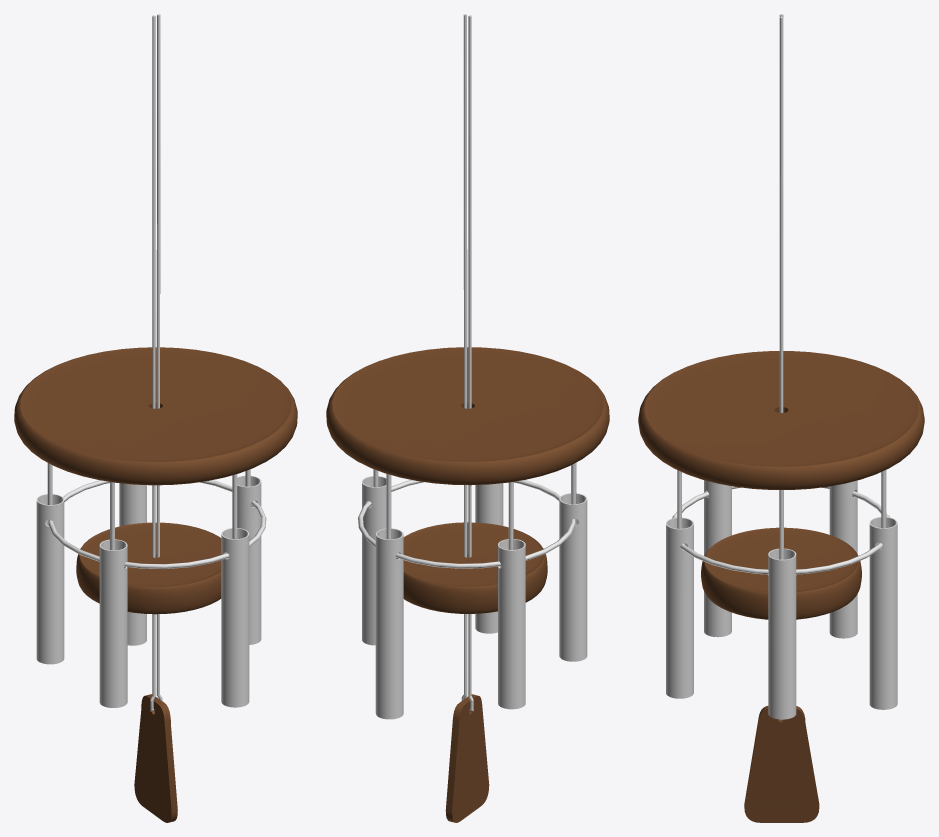
File: WindChime001.fbx
The picture shows the model from 3 angles, left to right: view 1: azimuth 30°, elevation 25°; view 2: azimuth 150°, elevation 25°; view 3: azimuth 270°, elevation 25°; orthographic projection.
Visible parts, largest first — view 1: Big ring, Big ring001, Plane005, Plane004, Plane003, Line001, Cylinder001, Plane001, Plane002, Circle001; view 2: Big ring, Big ring001, Plane002, Plane003, Plane004, Line001, Cylinder001, Plane001, Circle001, Plane005; view 3: Big ring, Big ring001, Cylinder001, Plane002, Plane005, Plane001, Plane003, Plane004, Line001, Circle001.
Part boxes in pixels (<box>): Big ring: <box>14,347,297,485</box>; Big ring001: <box>76,522,221,614</box>; Plane005: <box>221,528,249,707</box>; Plane004: <box>99,539,127,707</box>; Plane003: <box>36,494,64,664</box>; Line001: <box>150,14,162,711</box>; Cylinder001: <box>134,694,177,822</box>; Plane001: <box>237,475,261,644</box>; Plane002: <box>119,483,146,645</box>; Circle001: <box>48,480,266,568</box>; Big ring: <box>326,347,609,485</box>; Big ring001: <box>403,522,547,613</box>; Plane002: <box>375,528,403,719</box>; Plane003: <box>498,539,525,709</box>; Plane004: <box>559,493,587,661</box>; Line001: <box>461,14,473,711</box>; Cylinder001: <box>445,694,489,822</box>; Plane001: <box>362,476,386,645</box>; Circle001: <box>358,480,575,568</box>; Plane005: <box>475,483,503,633</box>; Big ring: <box>638,351,924,489</box>; Big ring001: <box>701,527,861,619</box>; Cylinder001: <box>744,706,819,822</box>; Plane002: <box>869,517,897,709</box>; Plane005: <box>666,517,693,698</box>; Plane001: <box>768,548,796,719</box>; Plane003: <box>829,480,857,638</box>; Plane004: <box>704,480,731,637</box>; Line001: <box>779,14,783,719</box>; Circle001: <box>672,486,889,574</box>.
Size of the model in its own units: 19.64 by 61.08 by 19.69.
